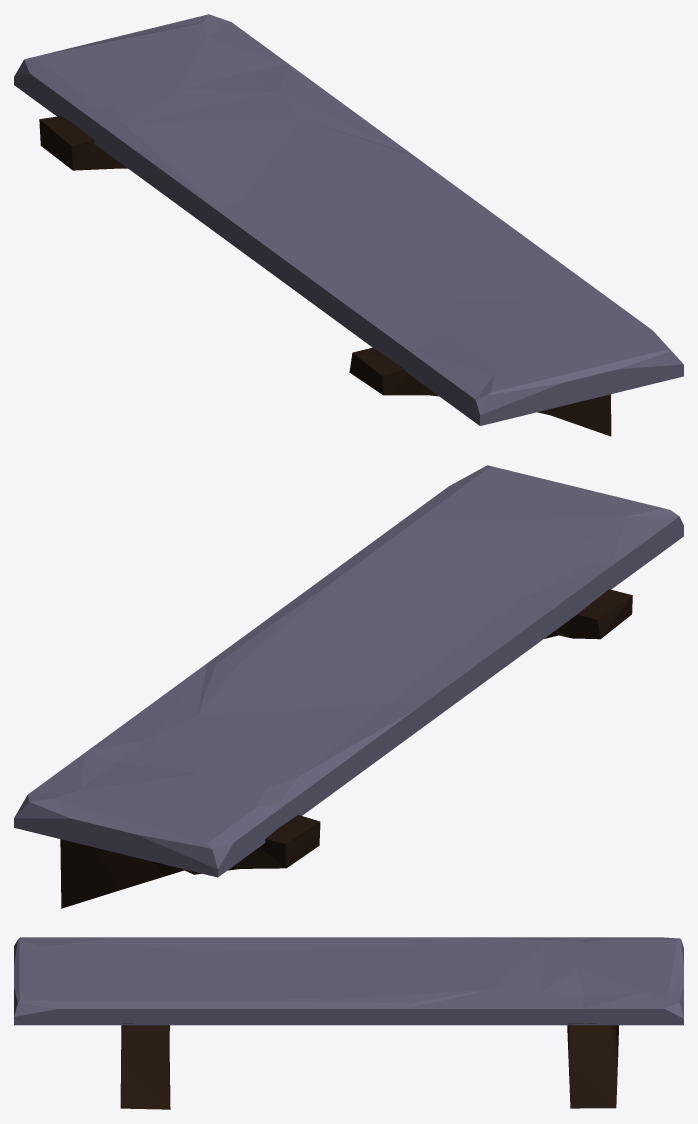
Rendered from SFFA_Wall_Shelve.fbx.
The picture shows the model from 3 angles, top to bottom: view 1: azimuth 30°, elevation 25°; view 2: azimuth 150°, elevation 25°; view 3: azimuth 270°, elevation 25°; orthographic projection. The views are drawn at different scales.
Visible parts, largest first — view 1: SFFA_Wall_Shelve; view 2: SFFA_Wall_Shelve; view 3: SFFA_Wall_Shelve.
Part boxes in pixels (left/top/right/bottom): SFFA_Wall_Shelve: left=14, top=14, right=683, bottom=436; SFFA_Wall_Shelve: left=14, top=465, right=683, bottom=908; SFFA_Wall_Shelve: left=14, top=937, right=683, bottom=1109.
Bounding box in the file's own units: 30.82 × 18.54 × 109.
